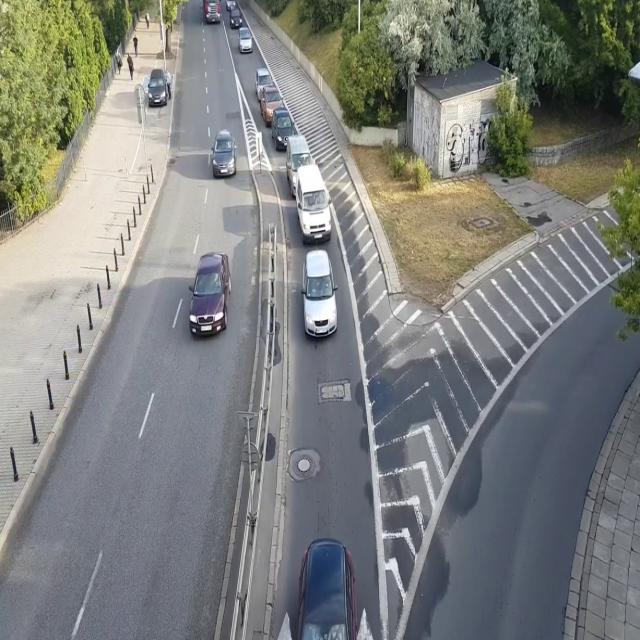car: (288, 535, 357, 640), (188, 246, 231, 338), (301, 249, 339, 338), (211, 130, 237, 177), (271, 106, 295, 154), (260, 85, 284, 126), (147, 66, 168, 108), (255, 67, 275, 103), (237, 26, 253, 54), (228, 5, 242, 30), (224, 0, 236, 10)
truck: (202, 0, 222, 24)
van: (295, 165, 332, 245), (286, 135, 312, 200)
